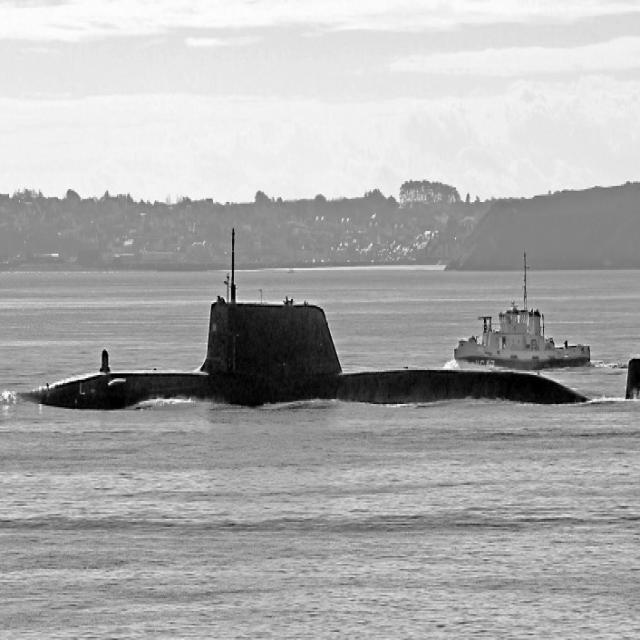submarine: (21, 303, 640, 408)
